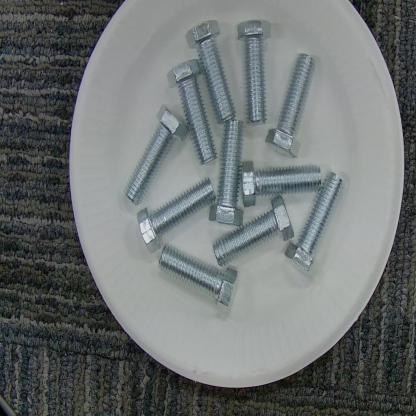FOD: (123, 15, 345, 312)
